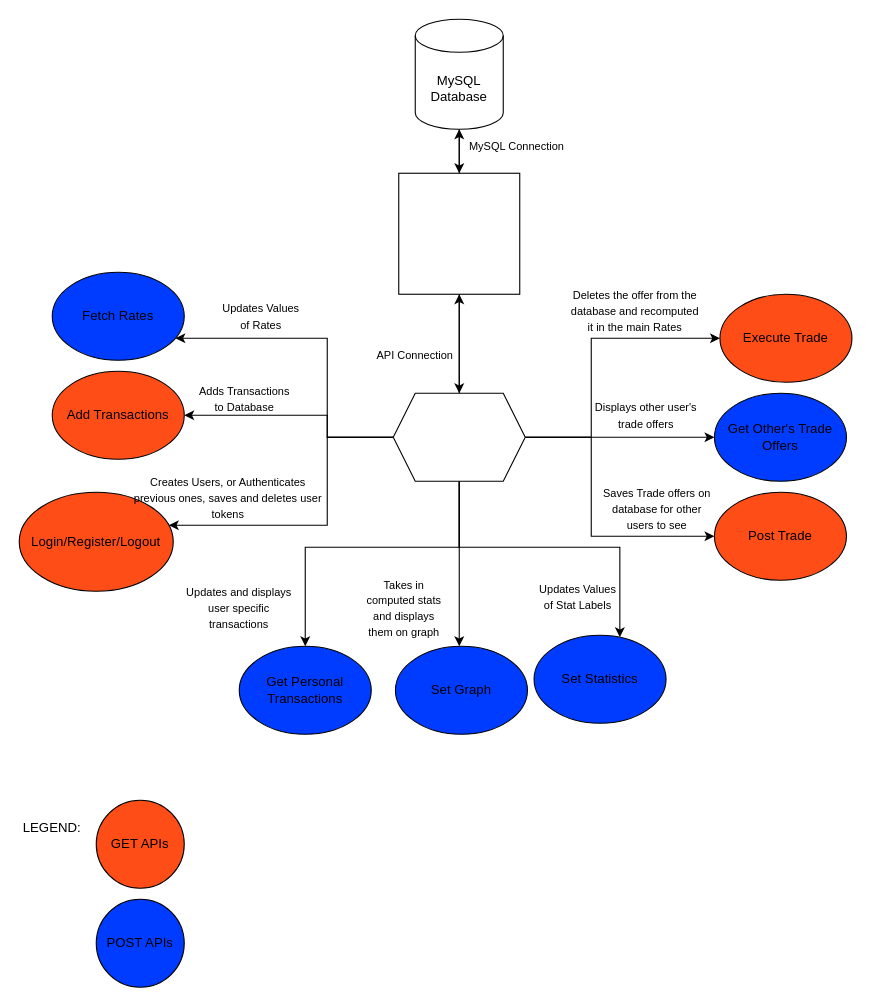
The diagram is 871 pixels wide and 1007 high, and some of its shapes have lost their labels. Each missing label, with the centre of its shape:
Flask Backend: pixel 459 233
React Main JSX App Function: pixel 458 436
